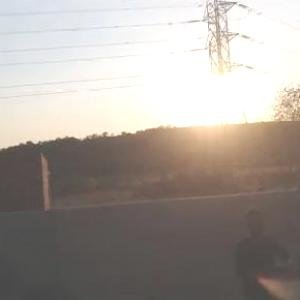follow: (227, 197, 297, 299)
